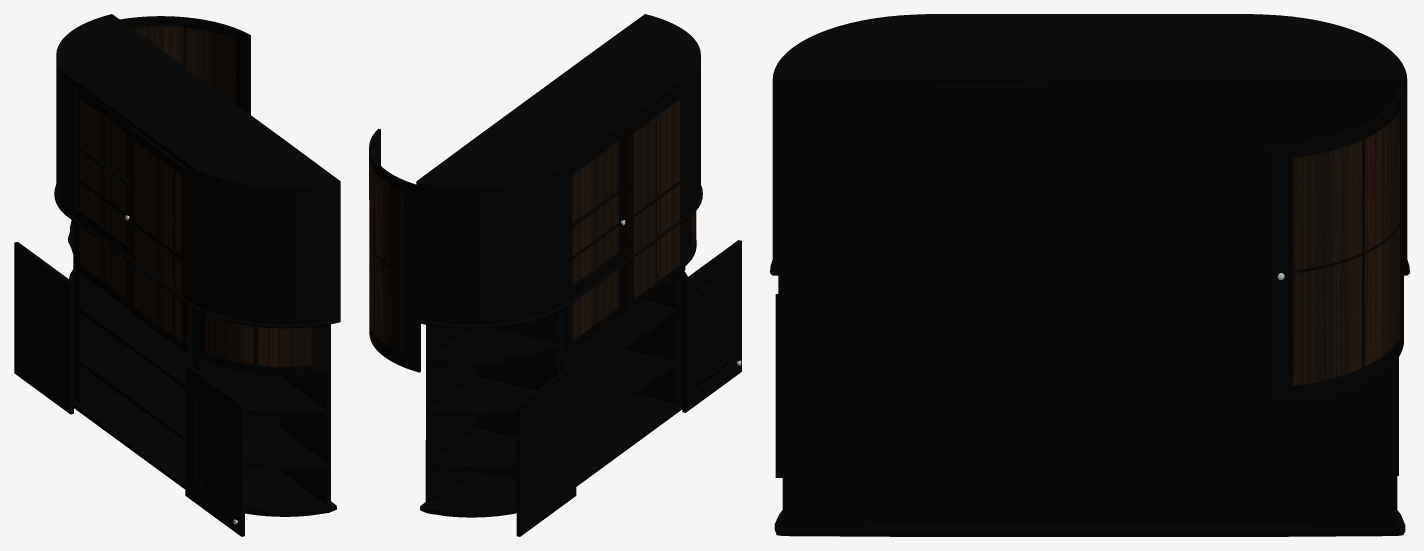
The model's file is шкаф столовая.FBX.
3 views of the same model, side by side, from view 1: azimuth 30°, elevation 25°; view 2: azimuth 150°, elevation 25°; view 3: azimuth 270°, elevation 25° (orthographic). The views are drawn at different scales.
Parts seen in each view (by area): view 1: Plane042, Object123, Object122, Object118, Object119, Object120, Object121; view 2: Plane042, Object123, Object121, Object122, Object119, Object118, Object120; view 3: Plane042, Object121, Object118.
Boxes of the visible parts, <box> form: Plane042: <box>54,14,340,516</box>; Object123: <box>129,128,189,354</box>; Object122: <box>74,87,134,309</box>; Object118: <box>185,364,244,536</box>; Object119: <box>14,242,73,414</box>; Object120: <box>192,308,330,375</box>; Object121: <box>120,16,250,114</box>; Plane042: <box>416,14,702,517</box>; Object123: <box>625,86,685,312</box>; Object121: <box>369,128,420,372</box>; Object122: <box>564,127,625,354</box>; Object119: <box>516,364,576,536</box>; Object118: <box>682,240,741,412</box>; Object120: <box>685,211,696,265</box>; Plane042: <box>770,14,1409,536</box>; Object121: <box>1266,88,1403,405</box>; Object118: <box>775,294,782,477</box>.
Size of the model in its own units: 1244 by 2076 by 2604.
